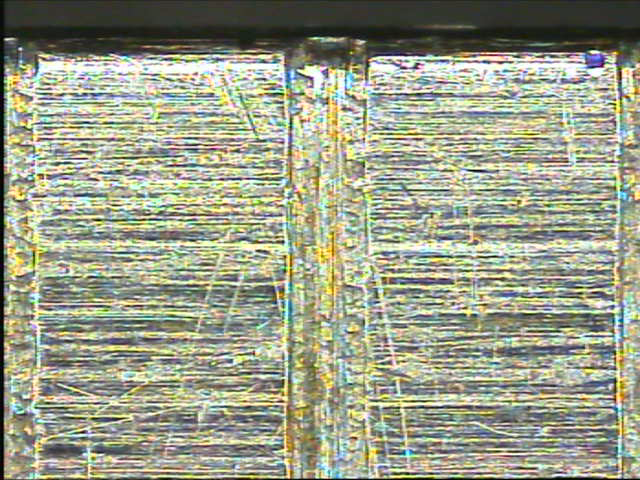line: (280, 34, 373, 470)
